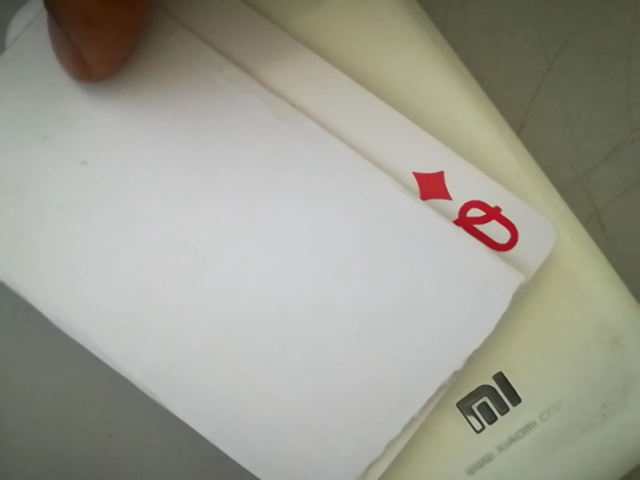fk q: (403, 163, 538, 260)
